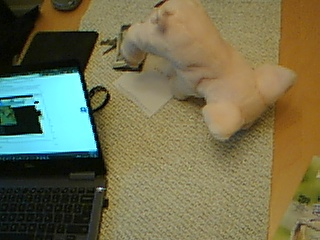piggy: (119, 1, 298, 144)
